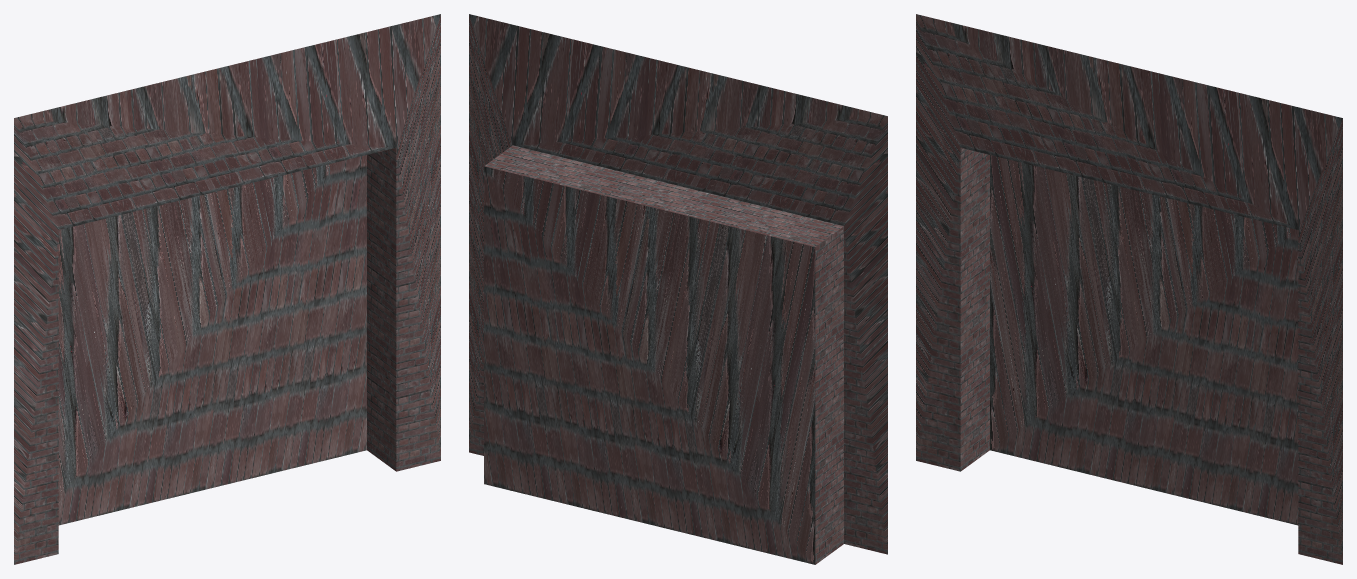
File: Wall_D_Brick_DoorRoll_D_4x_COL.FBX
3 renders of one model, left to right at view 1: azimuth 30°, elevation 25°; view 2: azimuth 150°, elevation 25°; view 3: azimuth 330°, elevation 25°, orthographic.
Visible parts, largest first — view 1: Wall_D_Brick_DoorRoll_D_4x_COL; view 2: Wall_D_Brick_DoorRoll_D_4x_COL; view 3: Wall_D_Brick_DoorRoll_D_4x_COL.
Boxes of the visible parts, x1,y1,x2,y2 form: Wall_D_Brick_DoorRoll_D_4x_COL: [14, 14, 440, 564]; Wall_D_Brick_DoorRoll_D_4x_COL: [469, 14, 887, 564]; Wall_D_Brick_DoorRoll_D_4x_COL: [916, 14, 1342, 564].
Size of the model in its own units: 400 by 400 by 47.48.
Materials: 1 (1 with a texture image).
